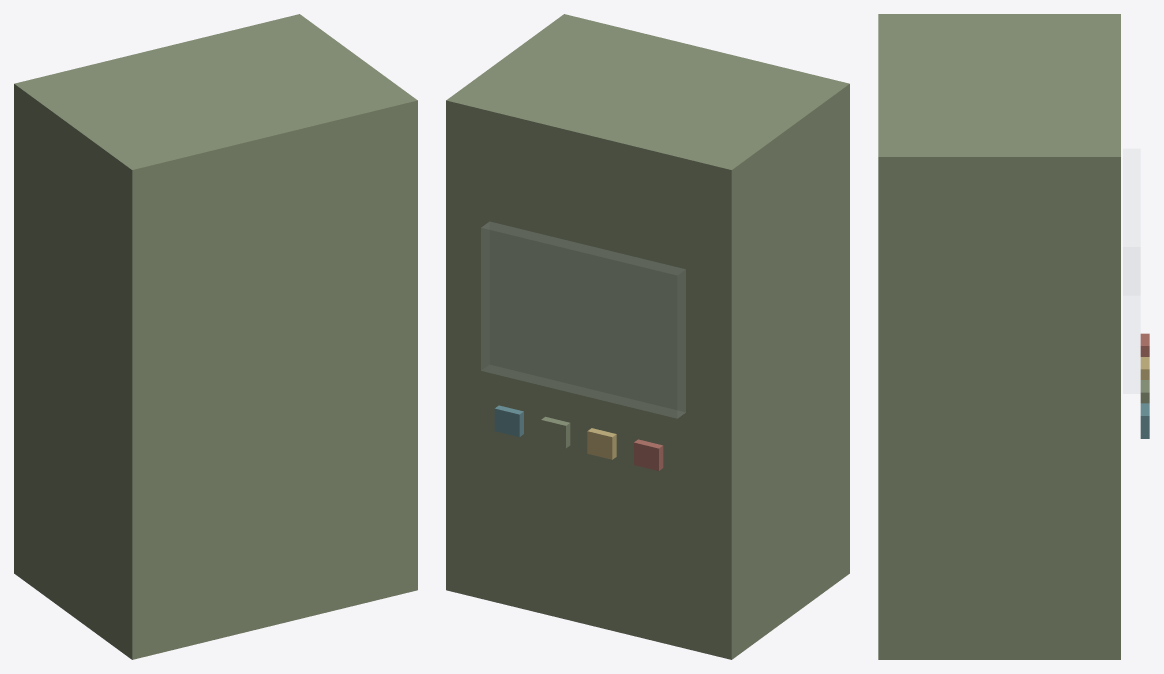
The model's file is iz2_mission_transformer_coil.glb.
The picture shows the model from 3 angles, left to right: view 1: azimuth 30°, elevation 25°; view 2: azimuth 150°, elevation 25°; view 3: azimuth 270°, elevation 25°; orthographic projection. The views are drawn at different scales.
Visible parts, largest first — view 1: body; view 2: body, screen; view 3: body, screen.
Part boxes in pixels (x1=…): body: x1=14, y1=14, x2=417, y2=659; body: x1=446, y1=14, x2=849, y2=659; screen: x1=481, y1=222, x2=685, y2=418; body: x1=878, y1=14, x2=1149, y2=659; screen: x1=1123, y1=149, x2=1140, y2=393.
Size of the model in its own units: 0.7776 by 1.27 by 0.6227.
